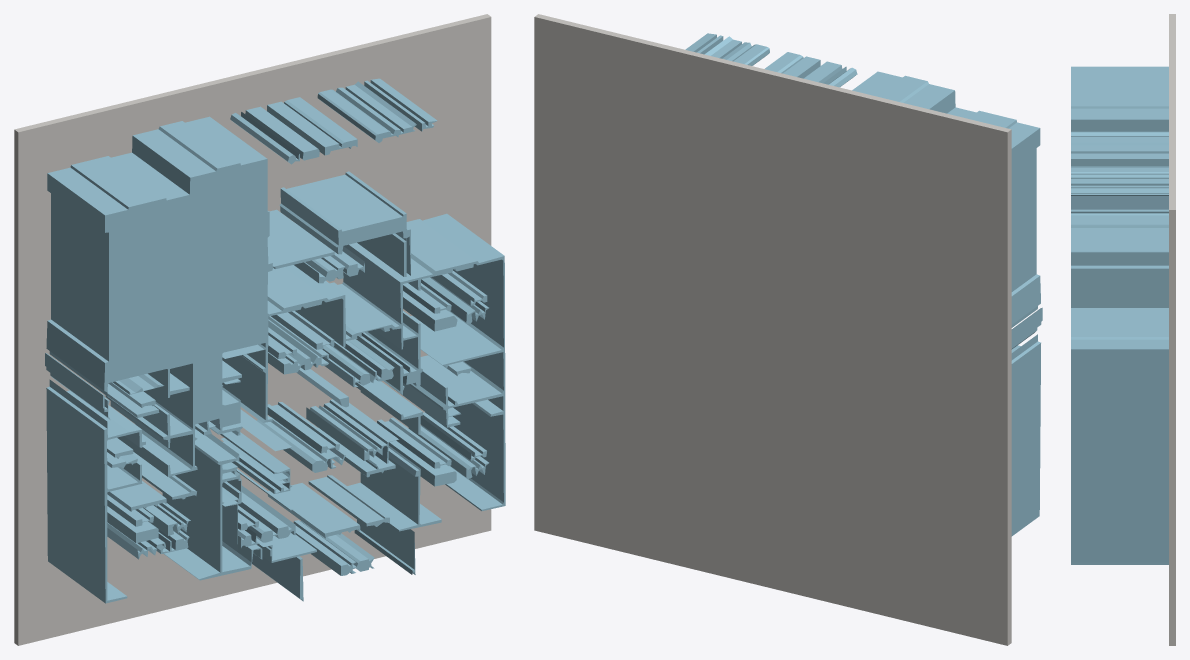
3 renders of one model, left to right at view 1: azimuth 30°, elevation 25°; view 2: azimuth 150°, elevation 25°; view 3: azimuth 270°, elevation 25°, orthographic. The views are drawn at different scales.
Parts seen in each view (by area): view 1: world; view 2: world; view 3: world.
Boxes of the visible parts, x1=… form: world: x1=14, y1=14, x2=505, y2=645; world: x1=534, y1=14, x2=1042, y2=645; world: x1=1071, y1=14, x2=1175, y2=645.
Size of the model in its own units: 10.23 by 10.61 by 2.31.
